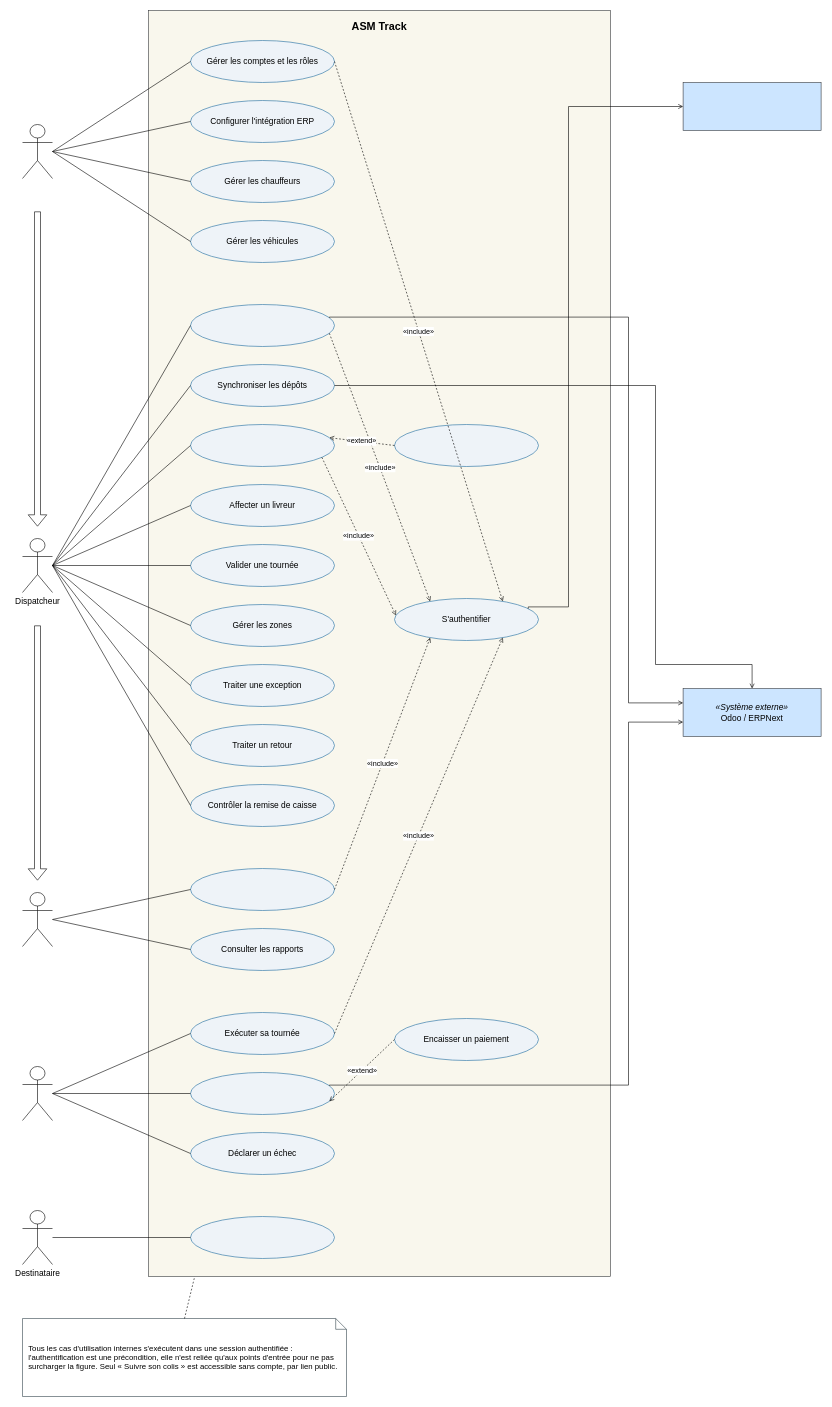
Some shapes in this 832 by 1407 pixel diagram are drawn without their labels. The centre of each missing label's shape, as x and y in pixels:
Administrateur: the point at 37,151
Importer les commandes: the point at 262,325
Livrer une commande: the point at 262,1093
Livreur: the point at 37,1093
Optimiser l'ordre des arrêts: the point at 466,445
Planifier une tournée: the point at 262,445
Responsable: the point at 37,919
Suivre les livraisons: the point at 262,889
Suivre son colis: the point at 262,1237
«Système externe» Keycloak: the point at 751,106
